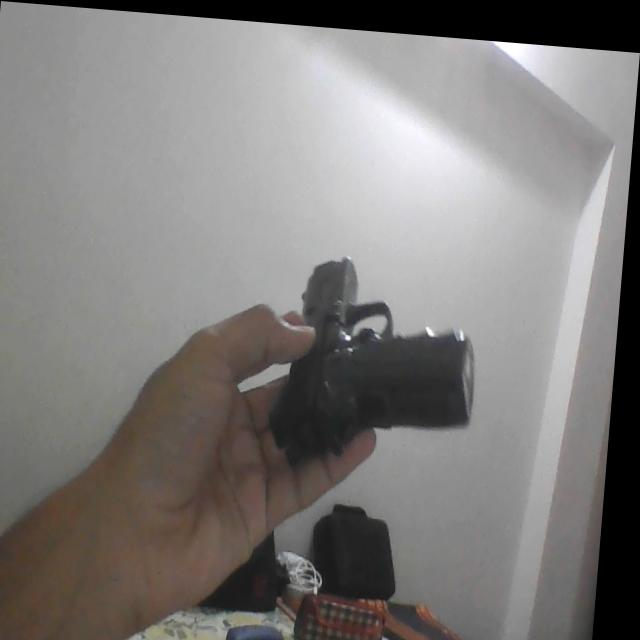handgun: (271, 244, 487, 475)
